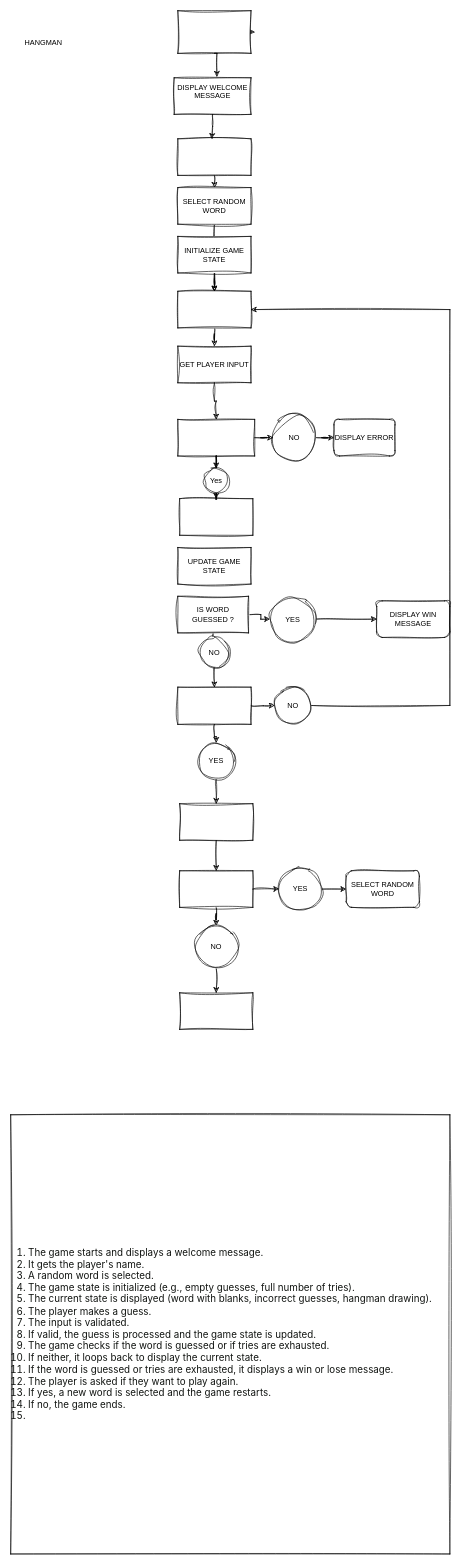
Some shapes in this 465 by 1565 pixel diagram are drawn without their labels. Each missing label, with the box of its shape:
ARE TRIES EXHAUSTED ?: (177, 687, 251, 724)
ASK TO PLAY AGAIN: (179, 870, 253, 907)
DISPLAY CURRENT STATE: (177, 291, 251, 328)
DISPLAY LOSE MESSAGE: (179, 803, 253, 840)
END: (179, 992, 253, 1029)
GET PLAYER NAME: (177, 138, 251, 175)
IS INPUT VALID: (177, 419, 255, 456)
PROCESS GUESS: (179, 498, 253, 535)
START: (177, 10, 251, 53)
